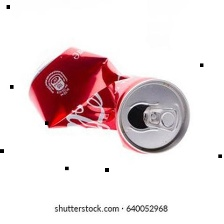can: (22, 42, 199, 160)
